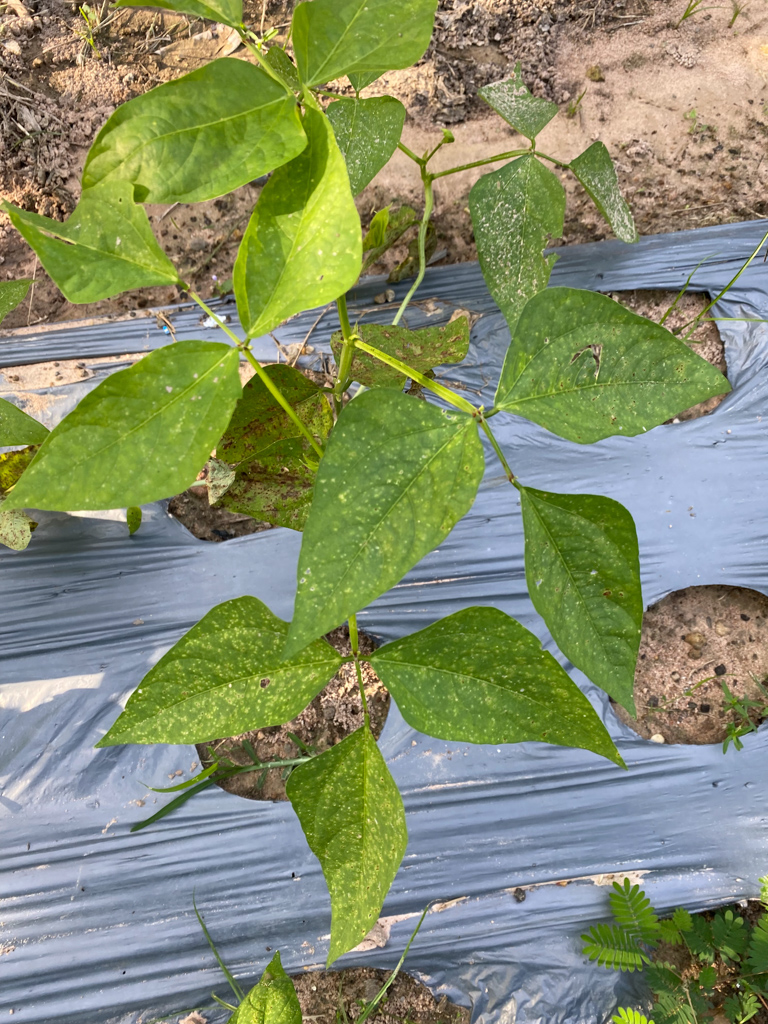Rust: (289, 407, 483, 645), (383, 615, 629, 768), (105, 605, 337, 743), (510, 498, 662, 703), (297, 748, 402, 956), (231, 959, 302, 1022)
